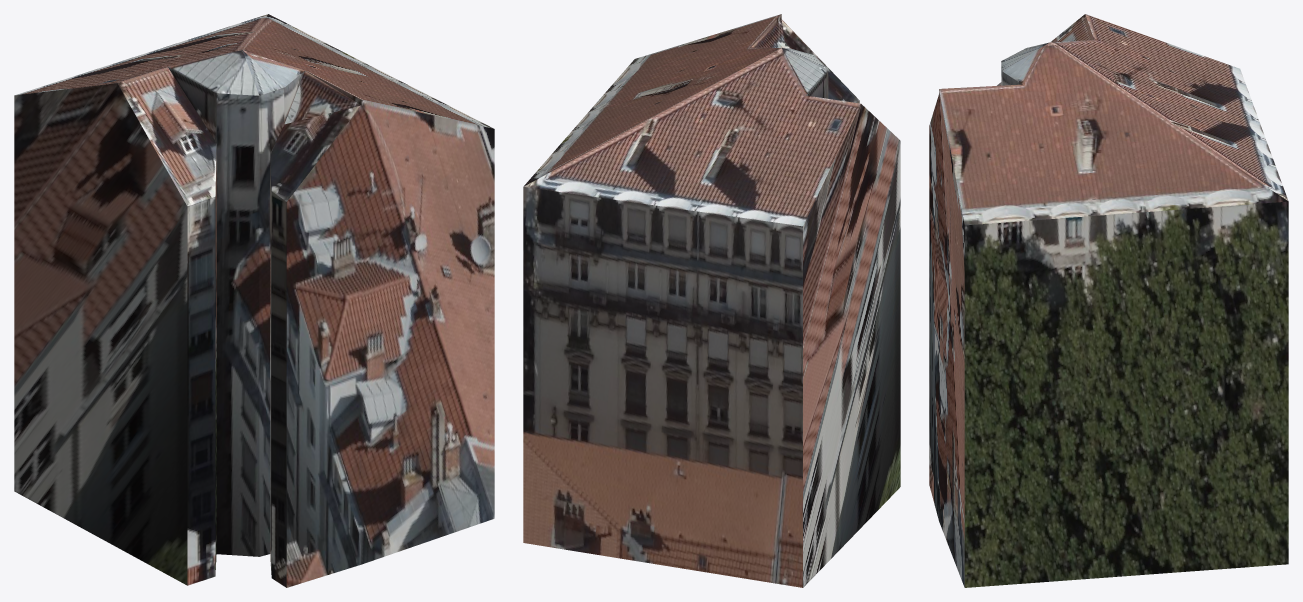
3 views of the same model, side by side, from view 1: azimuth 30°, elevation 25°; view 2: azimuth 150°, elevation 25°; view 3: azimuth 270°, elevation 25° (orthographic). The views are drawn at different scales.
Visible parts, largest first — view 1: Z_UP; view 2: Z_UP; view 3: Z_UP.
Boxes of the visible parts, x1,y1,x2,y2 form: Z_UP: [14, 14, 494, 587]; Z_UP: [523, 14, 900, 587]; Z_UP: [929, 14, 1288, 587].
Size of the model in its own units: 20.86 by 29.11 by 20.99.
Materials: 2 (1 with a texture image).
